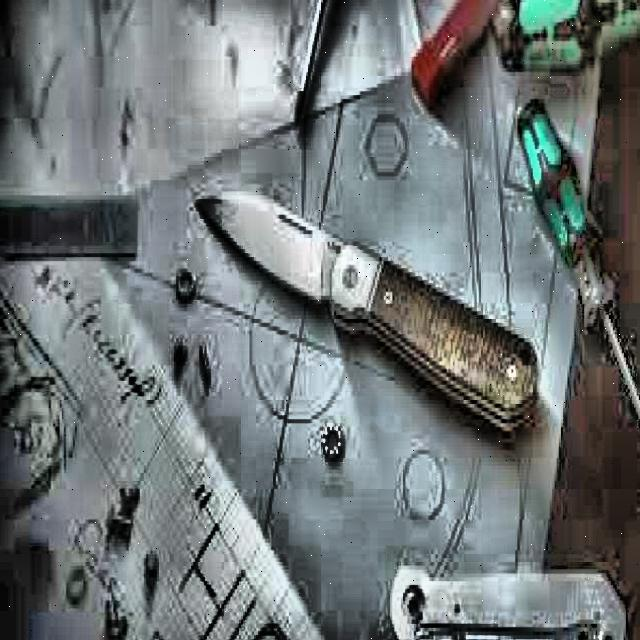knife: (193, 174, 549, 464)
